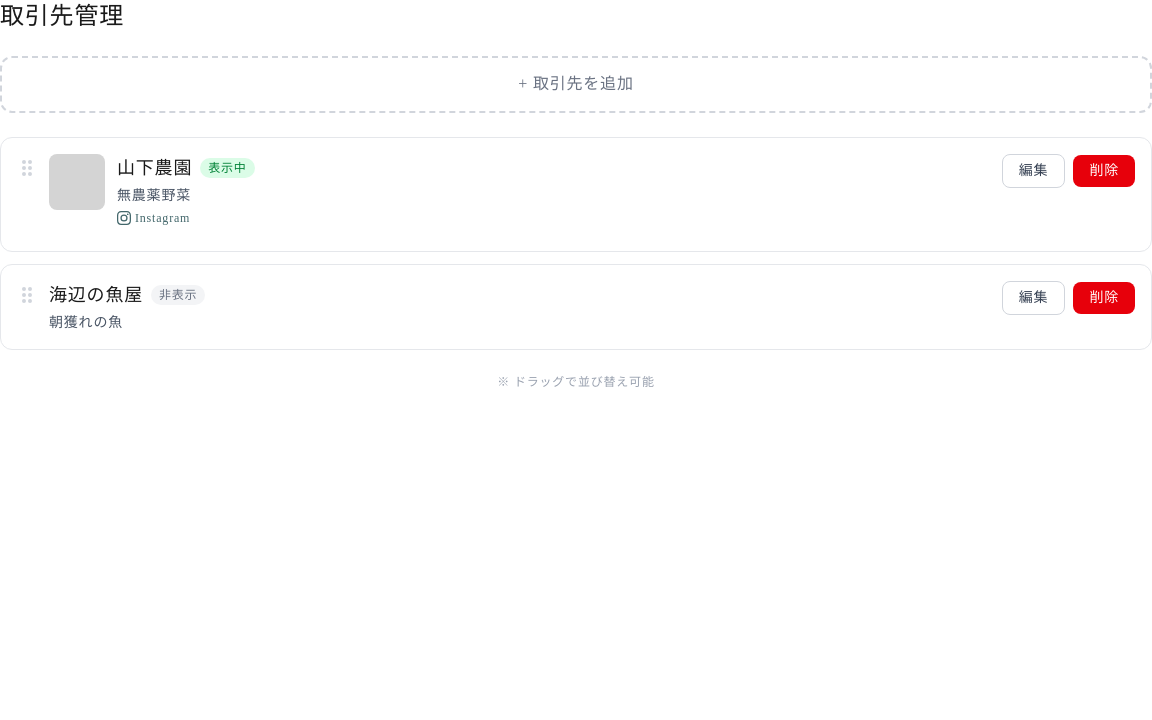
it: SupplierManager › 新規作成すると API を呼び、モーダルを閉じて一覧に追加する
Click the button "+ 取引先を追加": (576, 84) 0,56 -> 1151,113
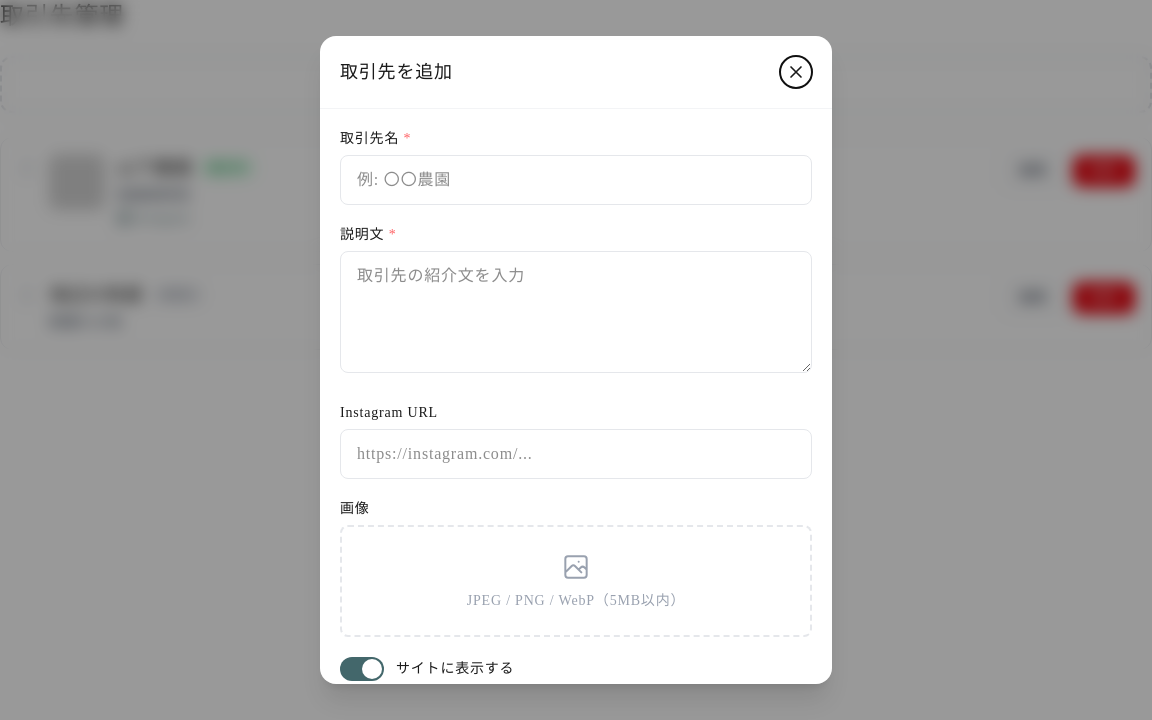
In the field with placeholder "例: 〇〇農園": (576, 180) 340,155 -> 812,205, type " 新しい農園 "
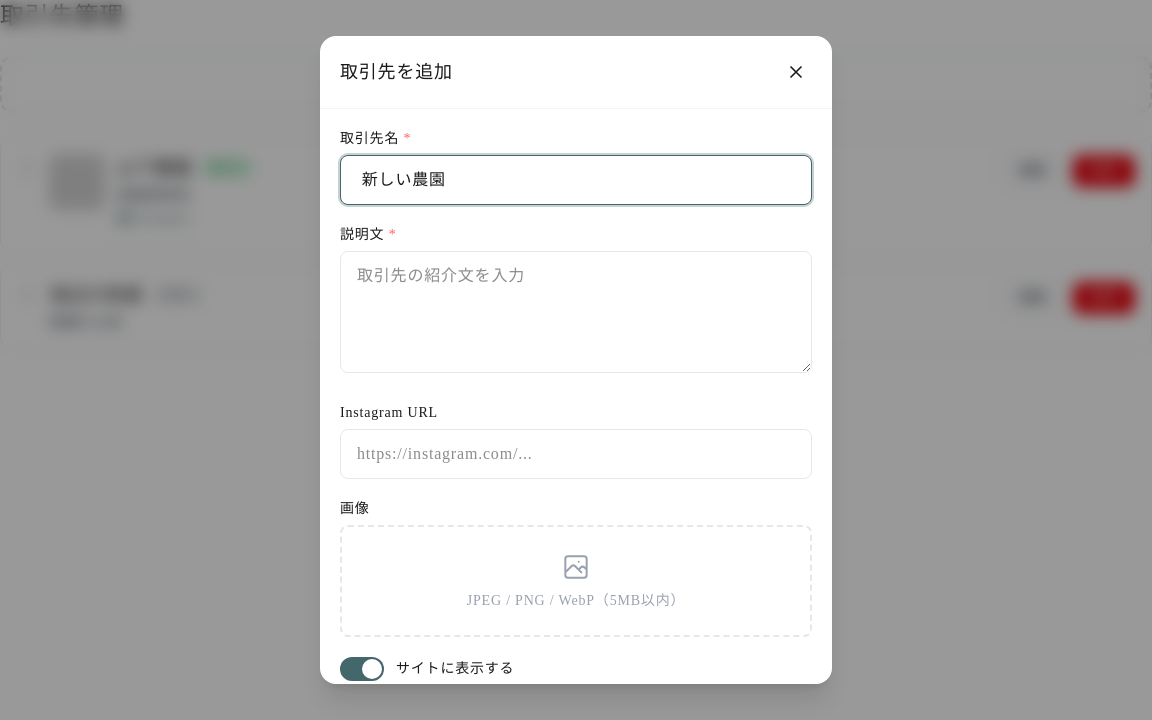
In the text box with placeholder "取引先の紹介文を入力": (576, 312) 340,251 -> 812,373, type "説明"
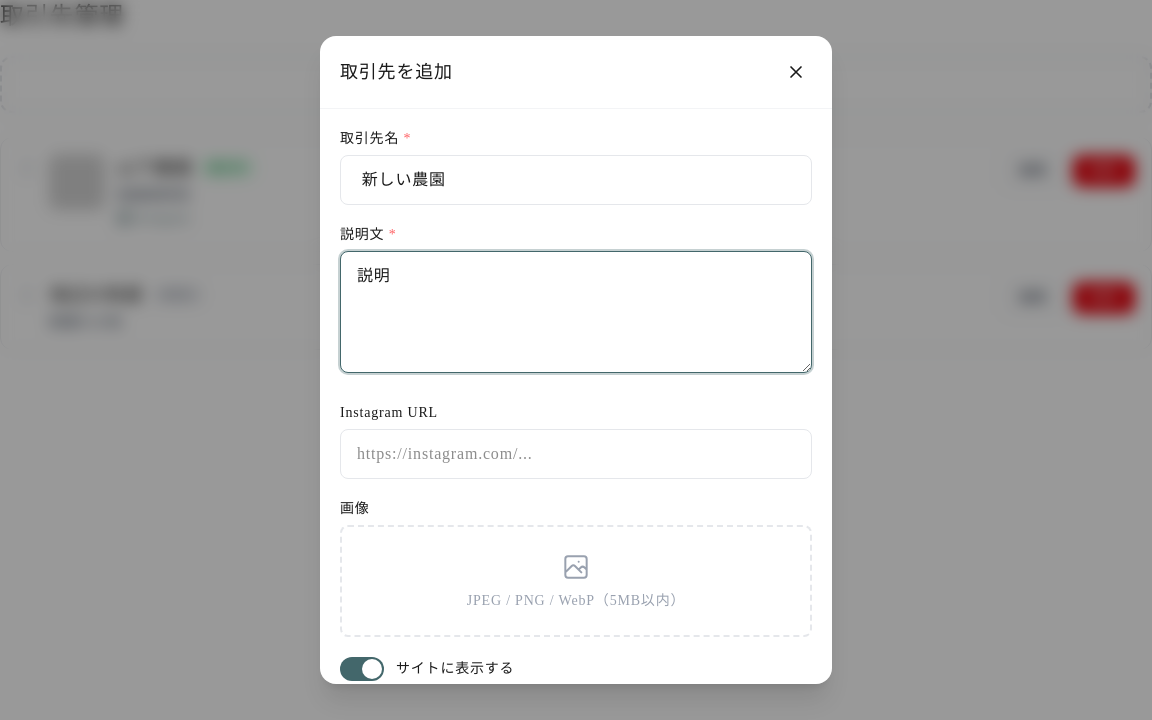
Click the checkbox: (362, 669) 340,657 -> 384,681
(page scrolled)
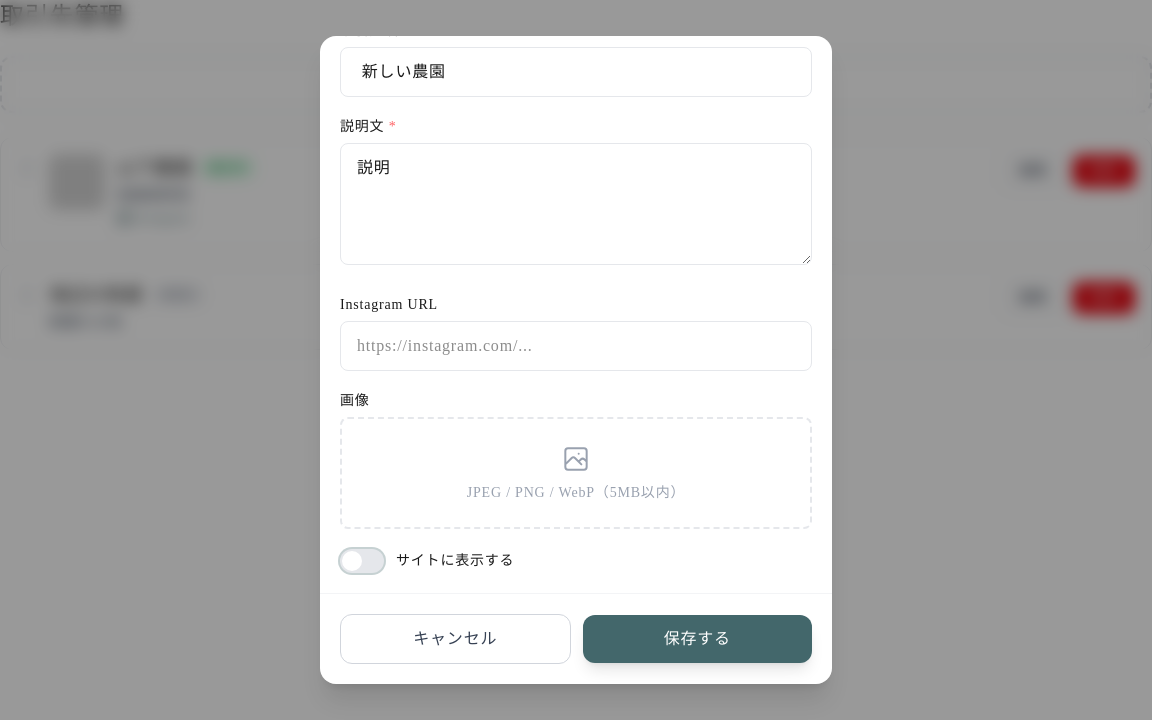
Click the button "保存する": (697, 639) 582,615 -> 812,663
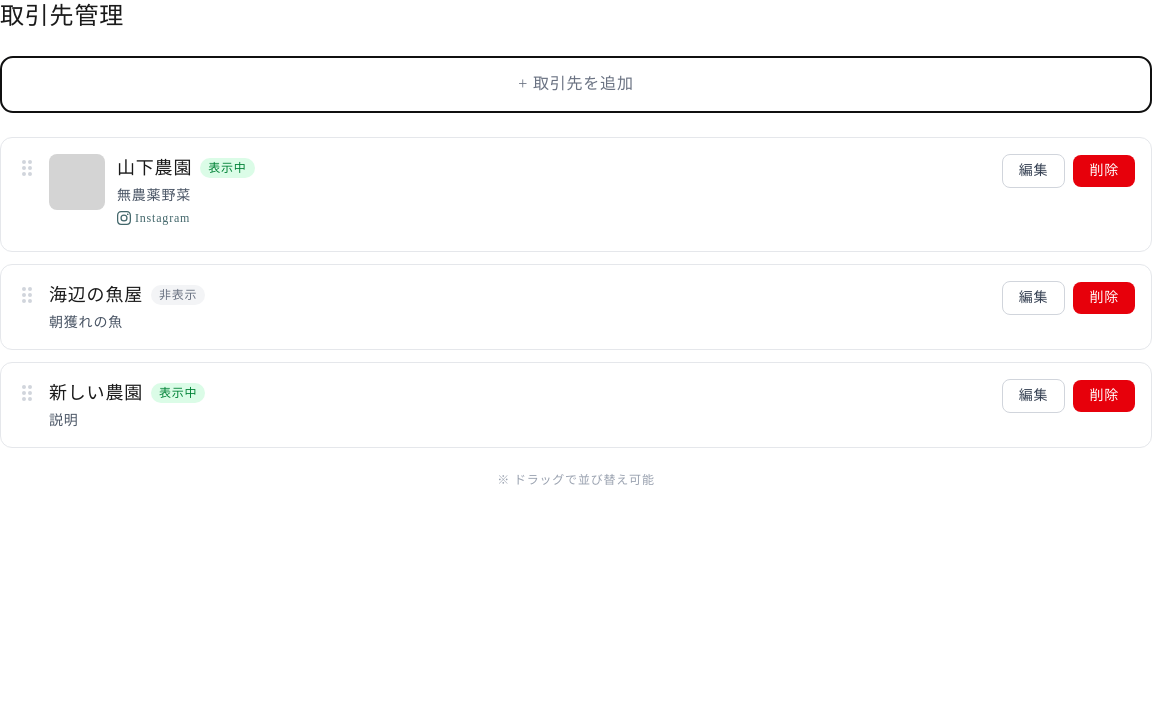
Expected: the dialog is gone
Expected: the heading "新しい農園" is shown, 49,379 -> 143,407
